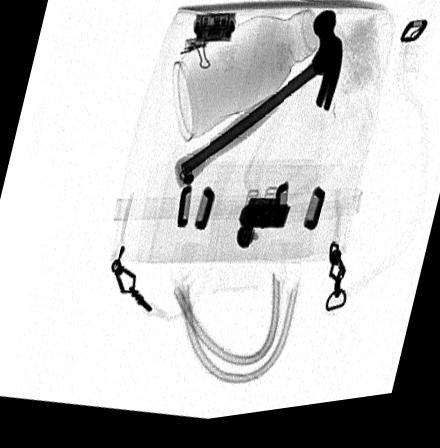Hammer: (173, 18, 345, 193)
